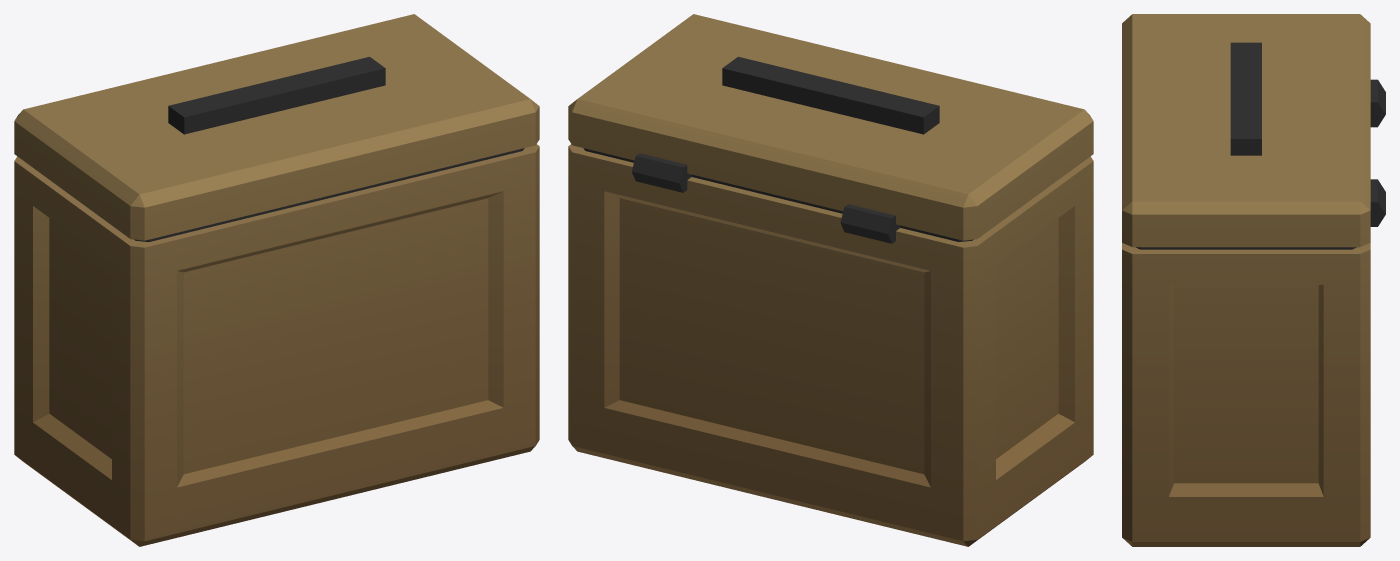
Rendered from AmoBox_07.fbx.
3 renders of one model, left to right at view 1: azimuth 30°, elevation 25°; view 2: azimuth 150°, elevation 25°; view 3: azimuth 270°, elevation 25°, orthographic.
Visible parts, largest first — view 1: AmoBox_07; view 2: AmoBox_07; view 3: AmoBox_07.
Boxes of the visible parts, box(x1,y1,x2,y2) form: AmoBox_07: box(14, 14, 539, 546); AmoBox_07: box(568, 14, 1093, 546); AmoBox_07: box(1122, 14, 1385, 546).
Size of the model in its own units: 0.3506 by 0.3027 by 0.1995.
